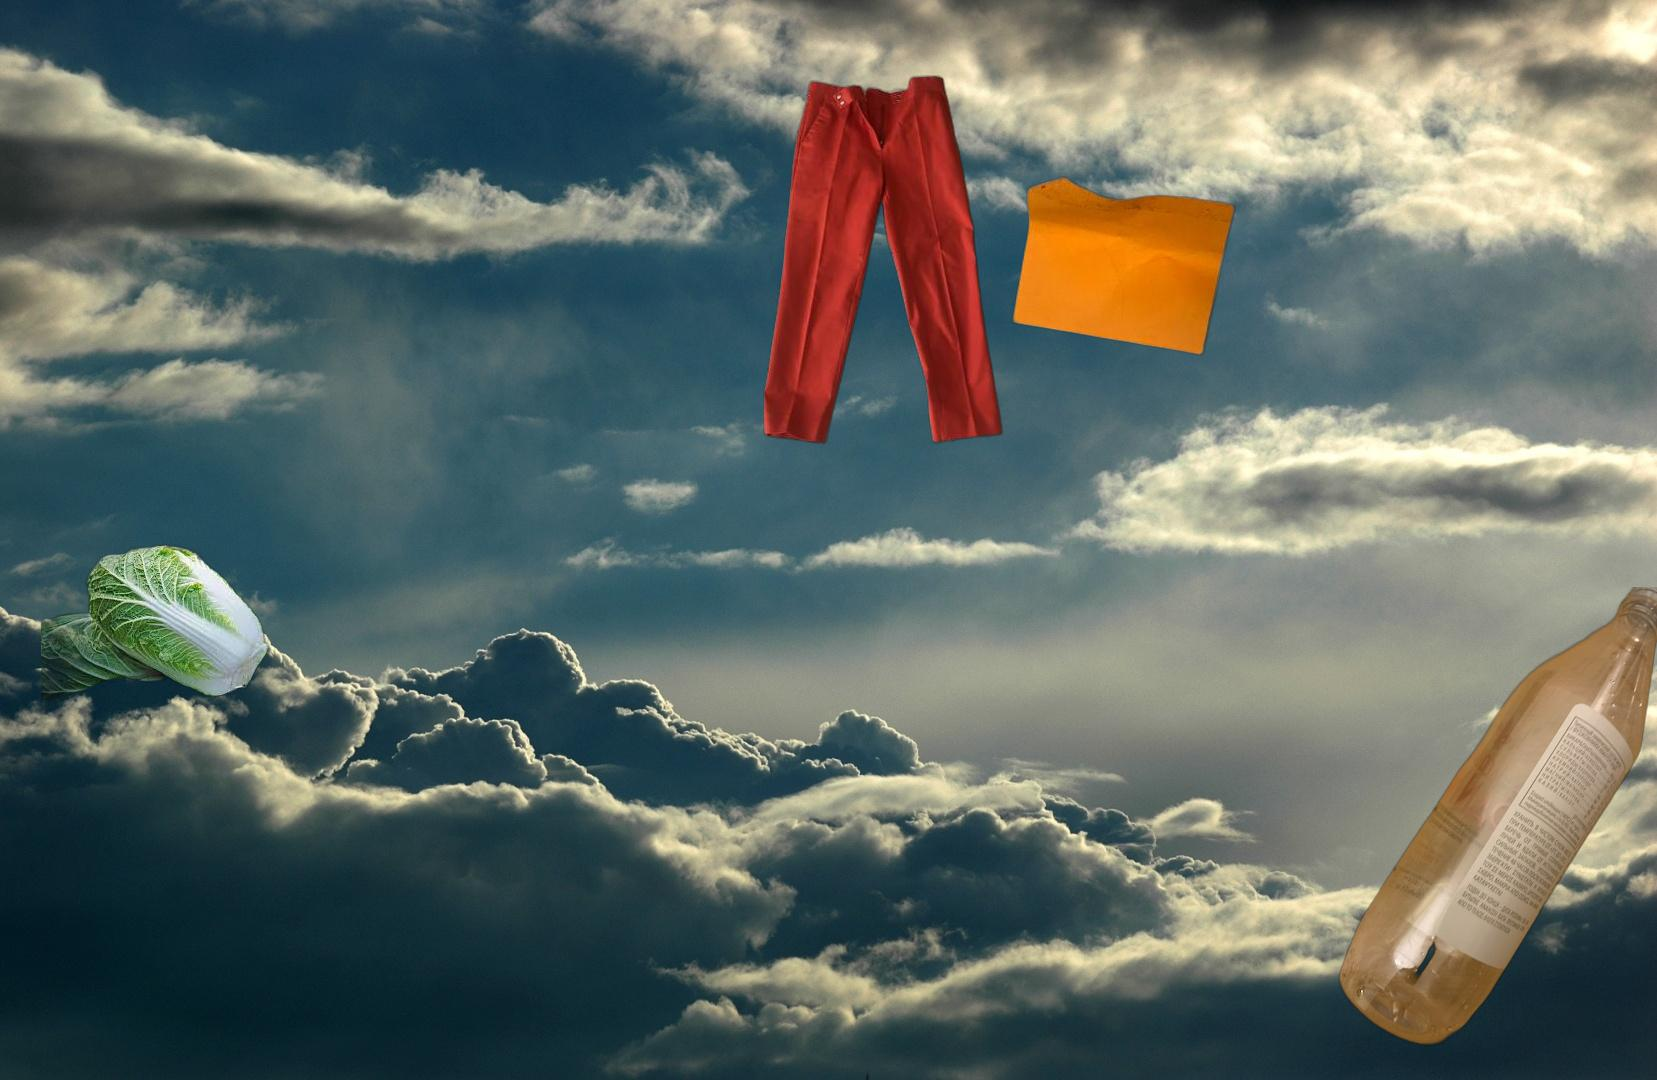biological: (41, 536, 273, 713)
clothes: (761, 72, 1006, 449)
paper: (1008, 173, 1240, 359)
plastic-bottles: (1335, 587, 1657, 1050)
